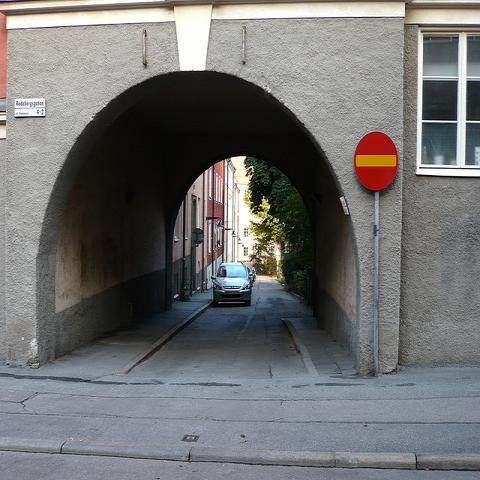car: (211, 262, 251, 307), (246, 266, 253, 287), (250, 266, 256, 282)
